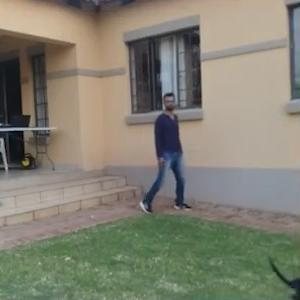follow: (148, 85, 188, 218)
